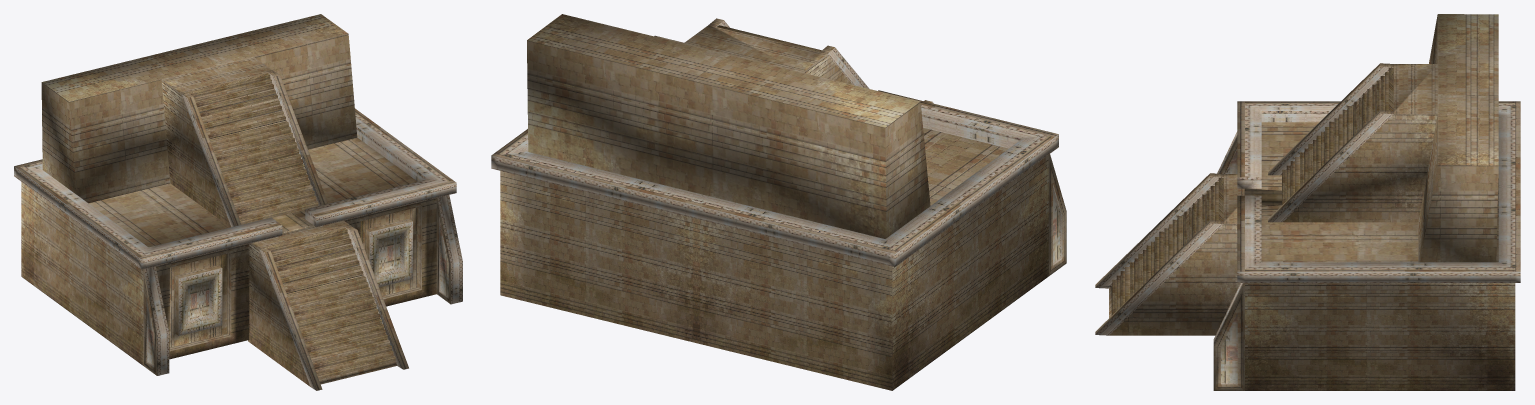
File: Tok_building9.dae
3 renders of one model, left to right at view 1: azimuth 30°, elevation 25°; view 2: azimuth 150°, elevation 25°; view 3: azimuth 270°, elevation 25°, orthographic. The views are drawn at different scales.
Parts seen in each view (by area): view 1: meshU3D; view 2: meshU3D; view 3: meshU3D.
Boxes of the visible parts, x1,y1,x2,y2 form: meshU3D: (14,14,462,390); meshU3D: (491,14,1066,390); meshU3D: (1095,14,1520,390).
Size of the model in its own units: 604 by 367 by 637.
1 material, 1 textured.
